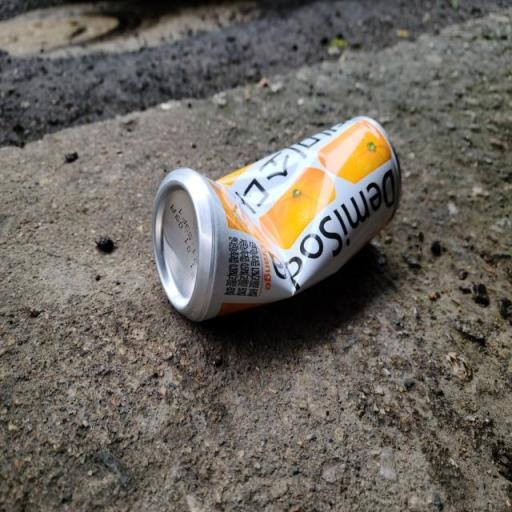metal: (130, 96, 428, 356)
